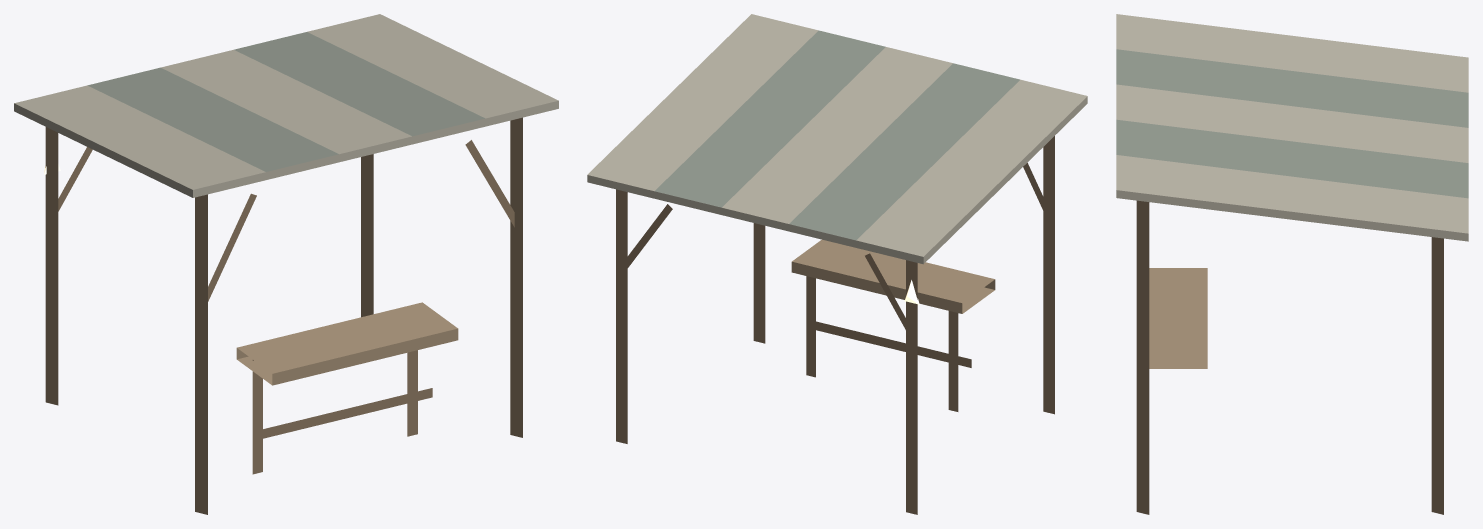
File: work_tent_far.glb
3 views of the same model, side by side, from view 1: azimuth 30°, elevation 25°; view 2: azimuth 150°, elevation 25°; view 3: azimuth 270°, elevation 25° (orthographic). The views are drawn at different scales.
Size of the model in its own units: 2.6 by 2.3 by 2.2.
